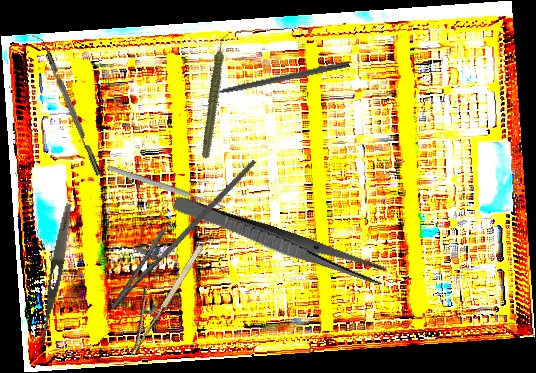Chopper: (31, 30, 102, 179)
Dressing Forceps: (170, 193, 388, 288), (37, 202, 75, 347)
Handpiece: (176, 31, 256, 161)
Hook Surgical: (195, 59, 351, 101)
Needle Holder: (98, 135, 257, 325), (107, 232, 207, 360)
Surgical Spoon: (106, 164, 226, 211)
